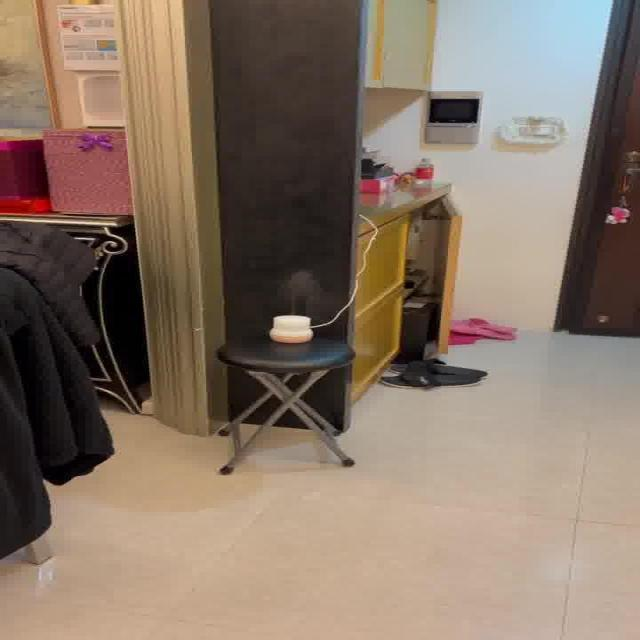fire: (276, 268, 328, 312)
